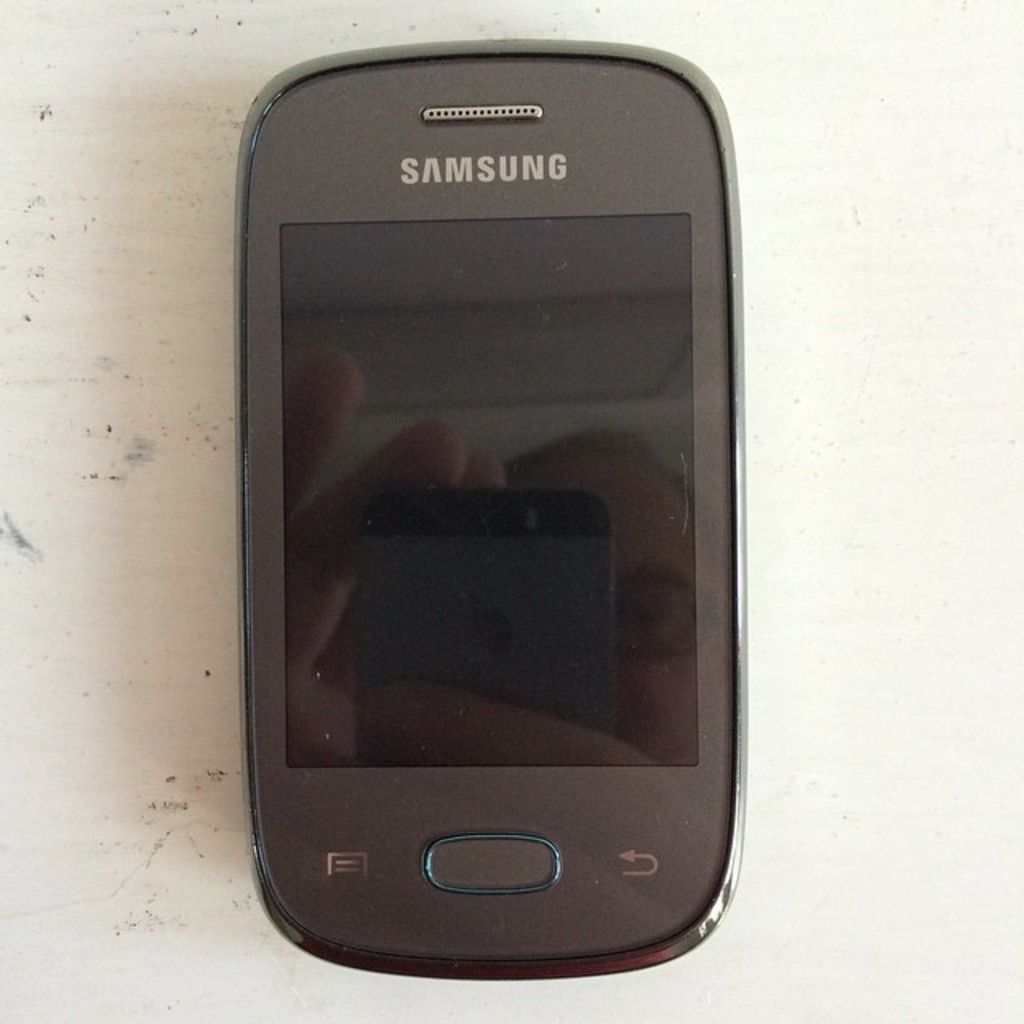mobile phone: (231, 33, 748, 987)
